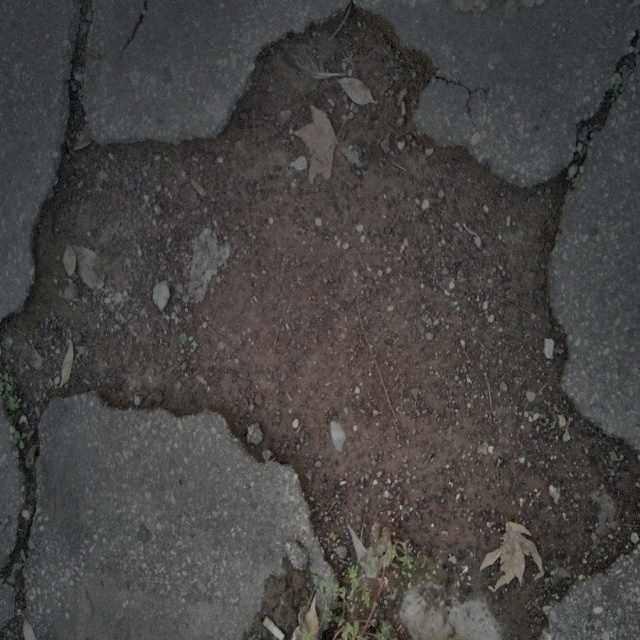pothole: (11, 3, 633, 625)
